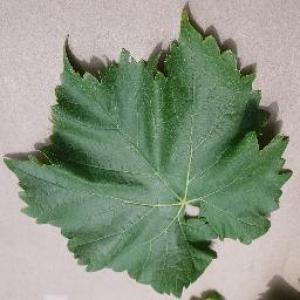Folha: (2, 0, 293, 299)
